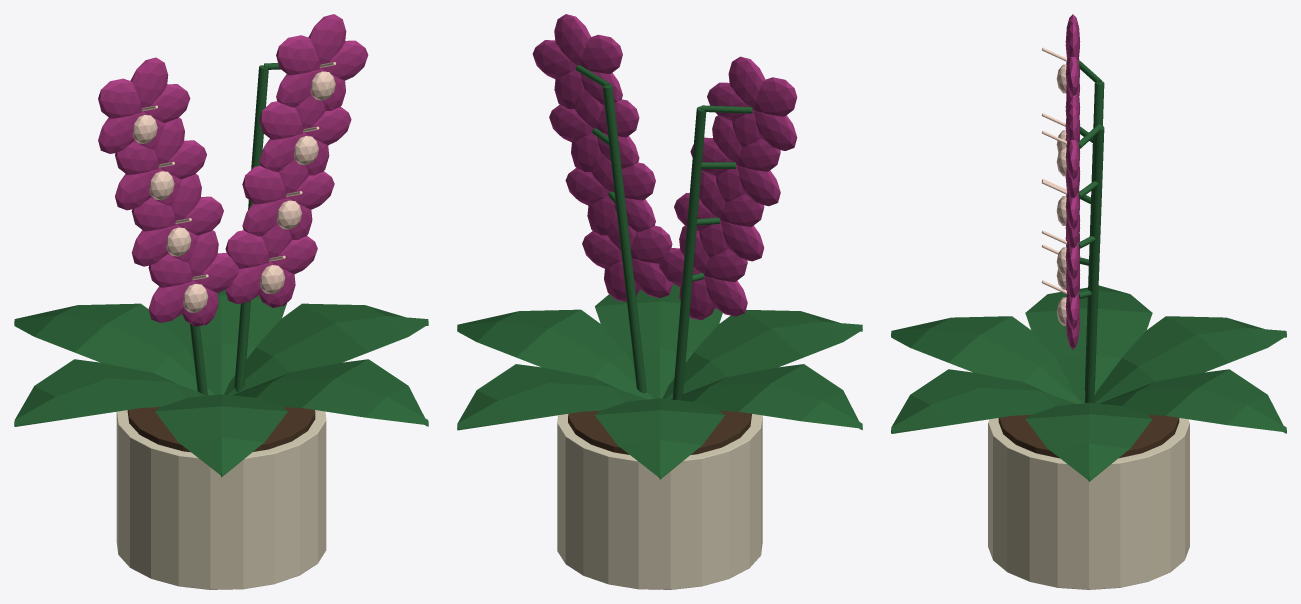
3 views of the same model, side by side, from view 1: azimuth 30°, elevation 25°; view 2: azimuth 150°, elevation 25°; view 3: azimuth 270°, elevation 25° (orthographic). The views are drawn at different scales.
Parts seen in each view (by area): view 1: ORCHID_Pot, ORCHID_Leaf_0, ORCHID_Leaf_2, ORCHID_Leaf_5, ORCHID_Leaf_3, ORCHID_Leaf_4, ORCHID_Leaf_1, ORCHID_Soil, ORCHID_Stem.001, ORCHID_Bloom_Petal.017, ORCHID_Bloom_Petal.037, ORCHID_Bloom_Petal.016 (+40 smaller); view 2: ORCHID_Pot, ORCHID_Leaf_0, ORCHID_Leaf_4, ORCHID_Leaf_1, ORCHID_Leaf_3, ORCHID_Leaf_2, ORCHID_Leaf_5, ORCHID_Stem.001, ORCHID_Stem, ORCHID_Soil, ORCHID_Bloom_Petal.017, ORCHID_Bloom_Petal.037 (+37 smaller); view 3: ORCHID_Pot, ORCHID_Leaf_2, ORCHID_Leaf_4, ORCHID_Leaf_3, ORCHID_Leaf_5, ORCHID_Leaf_1, ORCHID_Leaf_0, ORCHID_Stem.001, ORCHID_Soil, ORCHID_Stem.
Boxes of the visible parts, x1,y1,x2,y2 form: ORCHID_Pot: [116, 410, 326, 589]; ORCHID_Leaf_0: [224, 303, 428, 395]; ORCHID_Leaf_2: [14, 303, 215, 395]; ORCHID_Leaf_5: [233, 359, 428, 426]; ORCHID_Leaf_3: [14, 359, 208, 426]; ORCHID_Leaf_4: [155, 394, 287, 477]; ORCHID_Leaf_1: [165, 289, 286, 394]; ORCHID_Soil: [127, 407, 315, 452]; ORCHID_Stem.001: [234, 65, 268, 392]; ORCHID_Bloom_Petal.017: [98, 78, 142, 118]; ORCHID_Bloom_Petal.037: [276, 35, 320, 75]; ORCHID_Bloom_Petal.016: [130, 57, 168, 111]; ORCHID_Pot: [557, 414, 762, 589]; ORCHID_Leaf_0: [457, 309, 653, 399]; ORCHID_Leaf_4: [662, 309, 862, 399]; ORCHID_Leaf_1: [457, 364, 647, 430]; ORCHID_Leaf_3: [671, 364, 862, 430]; ORCHID_Leaf_2: [595, 398, 724, 479]; ORCHID_Leaf_5: [595, 284, 722, 398]; ORCHID_Stem.001: [602, 84, 646, 393]; ORCHID_Stem: [672, 106, 706, 400]; ORCHID_Soil: [568, 410, 751, 454]; ORCHID_Bloom_Petal.017: [753, 77, 797, 116]; ORCHID_Bloom_Petal.037: [580, 34, 622, 73]; ORCHID_Pot: [988, 418, 1189, 589]; ORCHID_Leaf_2: [1094, 316, 1286, 403]; ORCHID_Leaf_4: [891, 316, 1082, 403]; ORCHID_Leaf_3: [1025, 285, 1152, 403]; ORCHID_Leaf_5: [891, 369, 1076, 433]; ORCHID_Leaf_1: [1099, 369, 1286, 433]; ORCHID_Leaf_0: [1025, 402, 1152, 481]; ORCHID_Stem.001: [1085, 125, 1104, 403]; ORCHID_Soil: [998, 415, 1179, 458]; ORCHID_Stem: [1084, 81, 1104, 390].
Size of the model in its own units: 0.86 by 1.02 by 0.7458.
